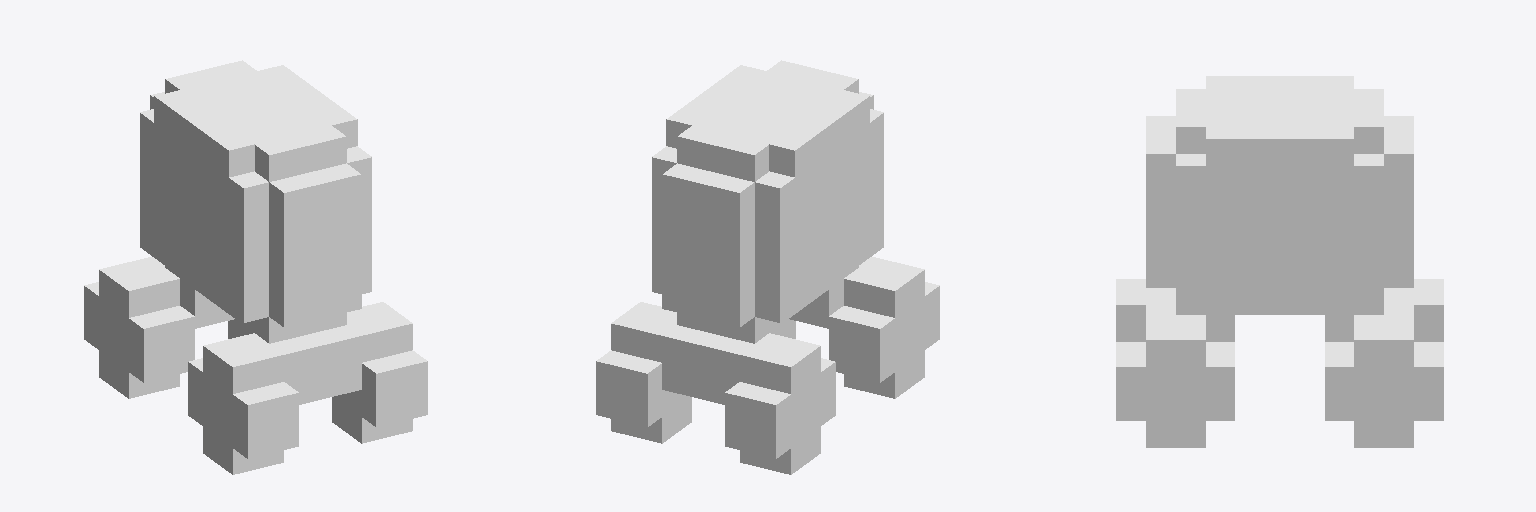
File: TransportInsulatingWheels.obj
The picture shows the model from 3 angles: view 1: azimuth 30°, elevation 25°; view 2: azimuth 150°, elevation 25°; view 3: azimuth 270°, elevation 25°; orthographic projection.
Parts seen in each view (by area): view 1: object 1; view 2: object 1; view 3: object 1.
Boxes of the visible parts, x1=… form: object 1: x1=84, y1=60, x2=427, y2=474; object 1: x1=596, y1=60, x2=939, y2=474; object 1: x1=1116, y1=76, x2=1443, y2=447.
Bounding box in the file's own units: 0.7 × 1.1 × 1.1.